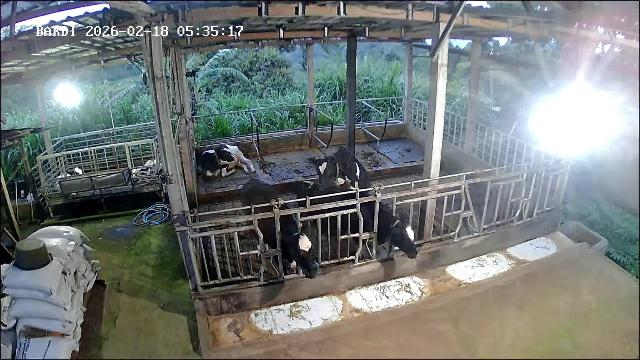mounting: (311, 147, 372, 219)
